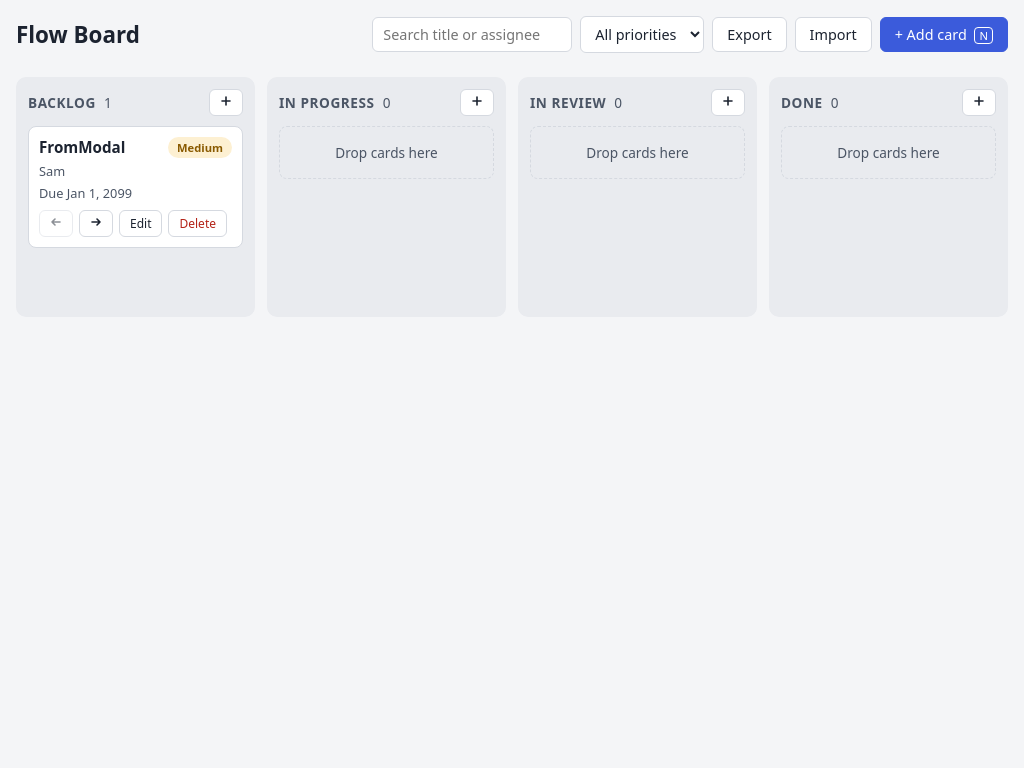
Test: deleting cards (audit: undo) › deletes from inside the edit dialog
What coordinates should you click on to do the following:
click the button named "Edit \"FromModal\""
I would click on:
 (141, 224)
Its box is [119,210,162,237].
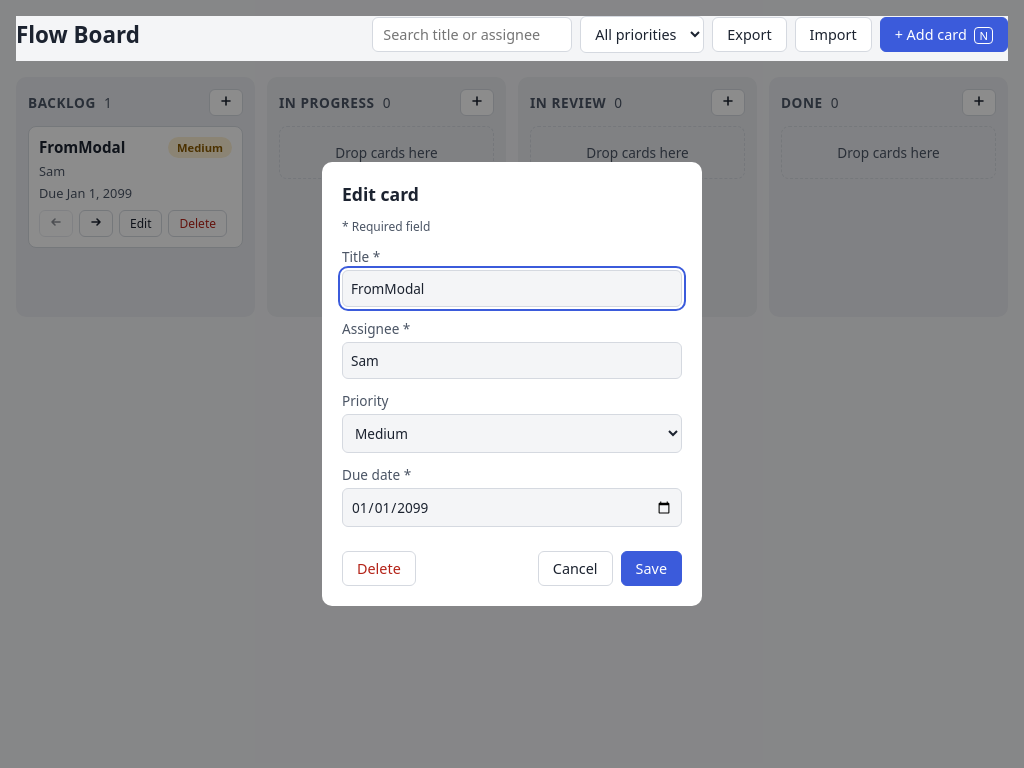
What coordinates should you click on to do the following:
click the button "Delete"
I would click on:
 (379, 568)
Its box is [342,551,416,586].
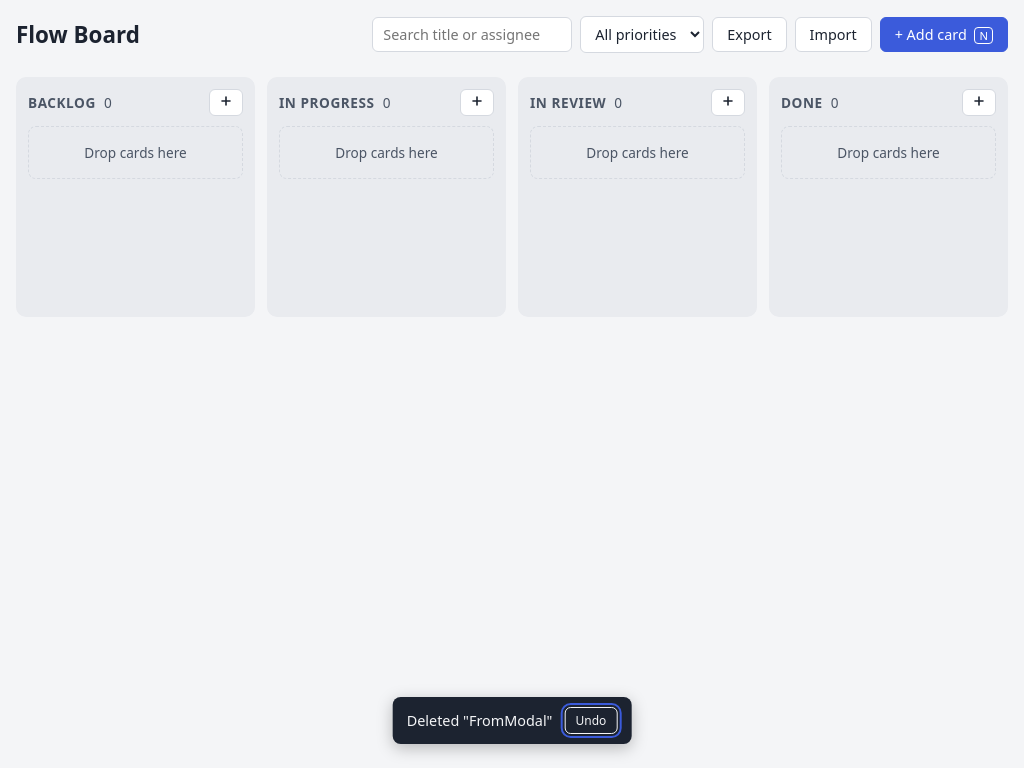
Result: the dialog is gone
